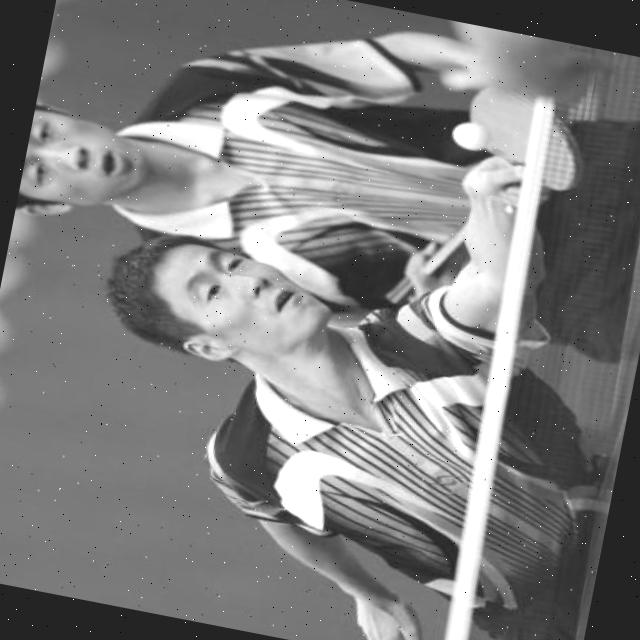ping-pong-ball: (442, 114, 498, 154)
